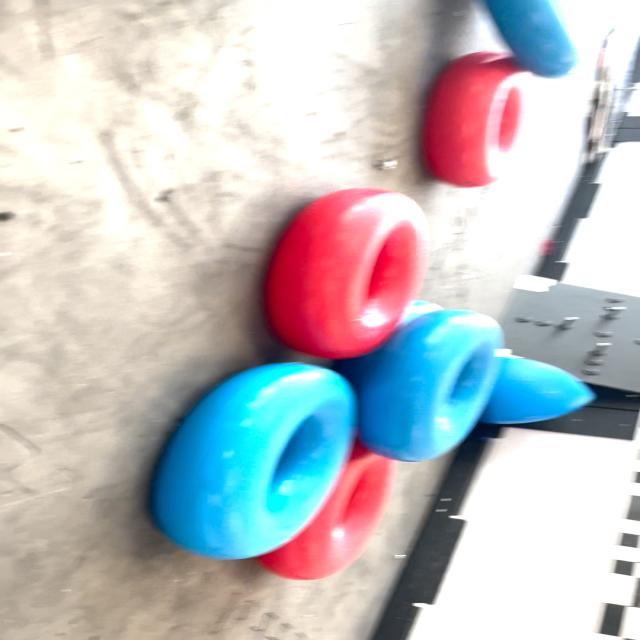Blue-Ring: (151, 362, 356, 559), (336, 310, 502, 461), (487, 0, 578, 78)
Red-Ring: (264, 188, 429, 359), (258, 440, 396, 580), (422, 51, 524, 188), (502, 85, 504, 87)
